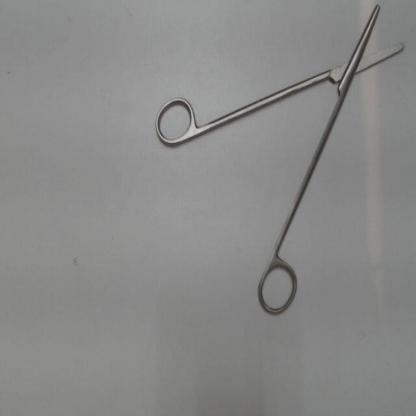9 Metzenbaum Scissors: (150, 3, 408, 323)
